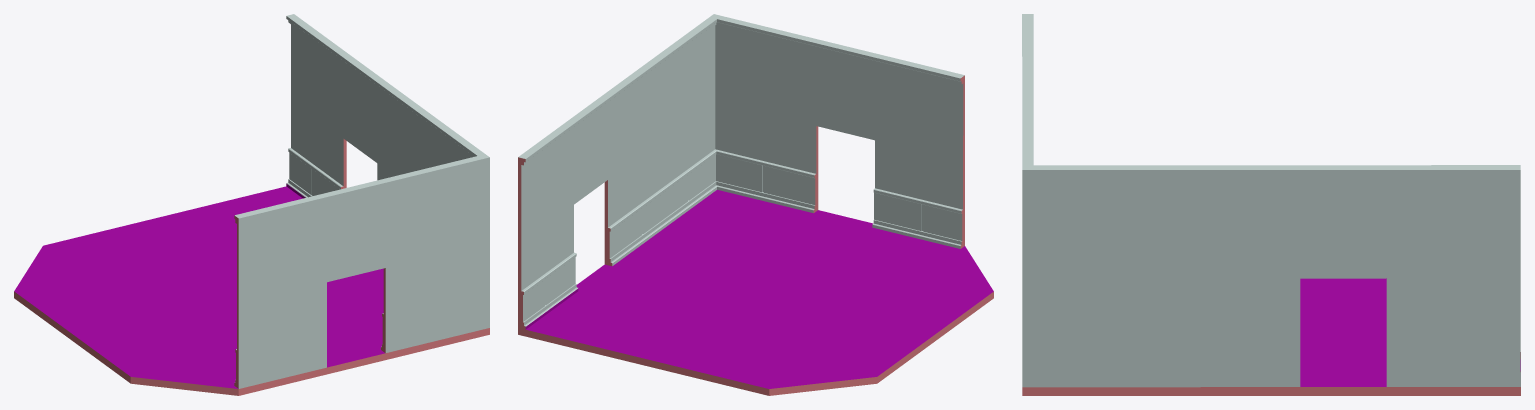
File: Bedroom.fbx
The picture shows the model from 3 angles, left to right: view 1: azimuth 30°, elevation 25°; view 2: azimuth 150°, elevation 25°; view 3: azimuth 270°, elevation 25°; orthographic projection. The views are drawn at different scales.
Visible parts, largest first — view 1: polySurface265; view 2: polySurface265; view 3: polySurface265.
Boxes of the visible parts, left/top/right/bottom form: polySurface265: left=14, top=14, right=489, bottom=395; polySurface265: left=518, top=14, right=993, bottom=395; polySurface265: left=1022, top=14, right=1520, bottom=395.
Bounding box in the file's own units: 98.01 × 52.03 × 104.
